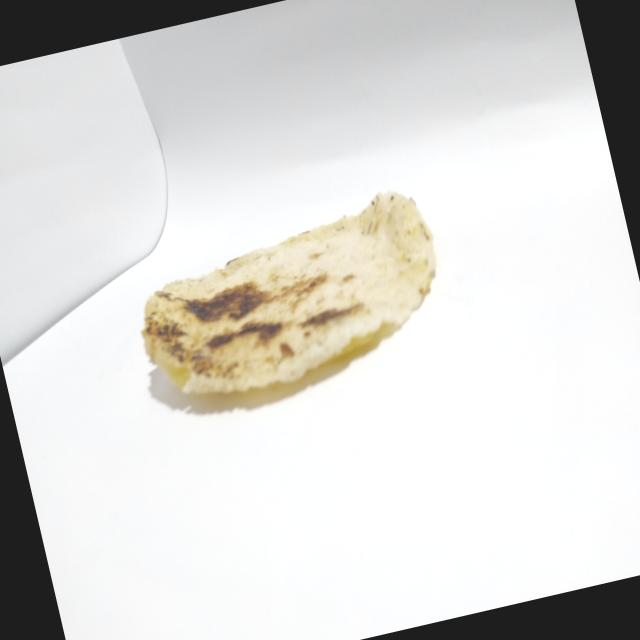Mbeju: (120, 175, 460, 418)
